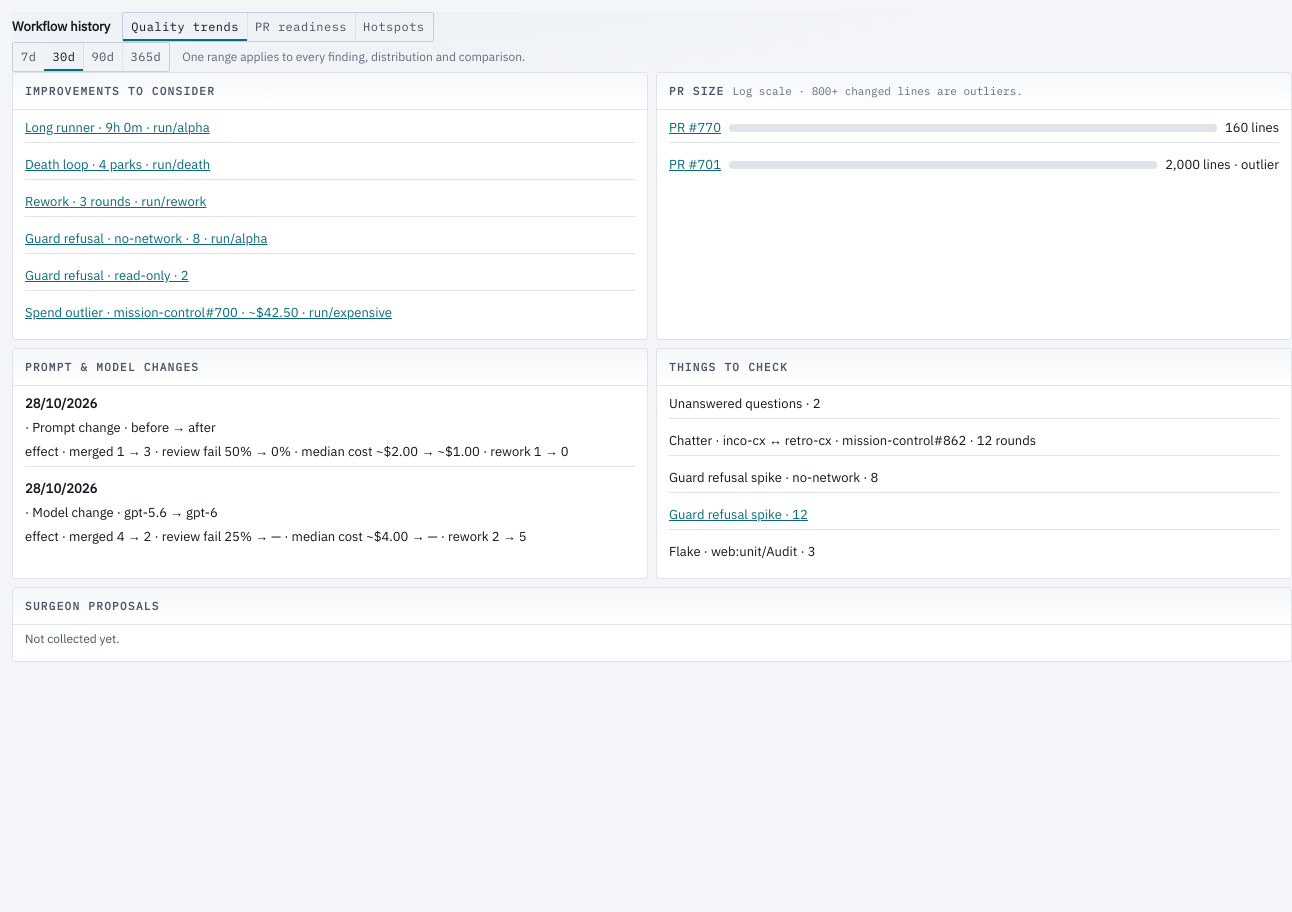
Test: Hotspots tab says so when no repo has a crew session
Expected: the heading "Workflow history" is shown, [12, 17, 110, 37]
What coordinates should you click on to do the following:
click the button "Hotspots"
I would click on:
 (394, 27)
Its box is [355, 13, 433, 41].
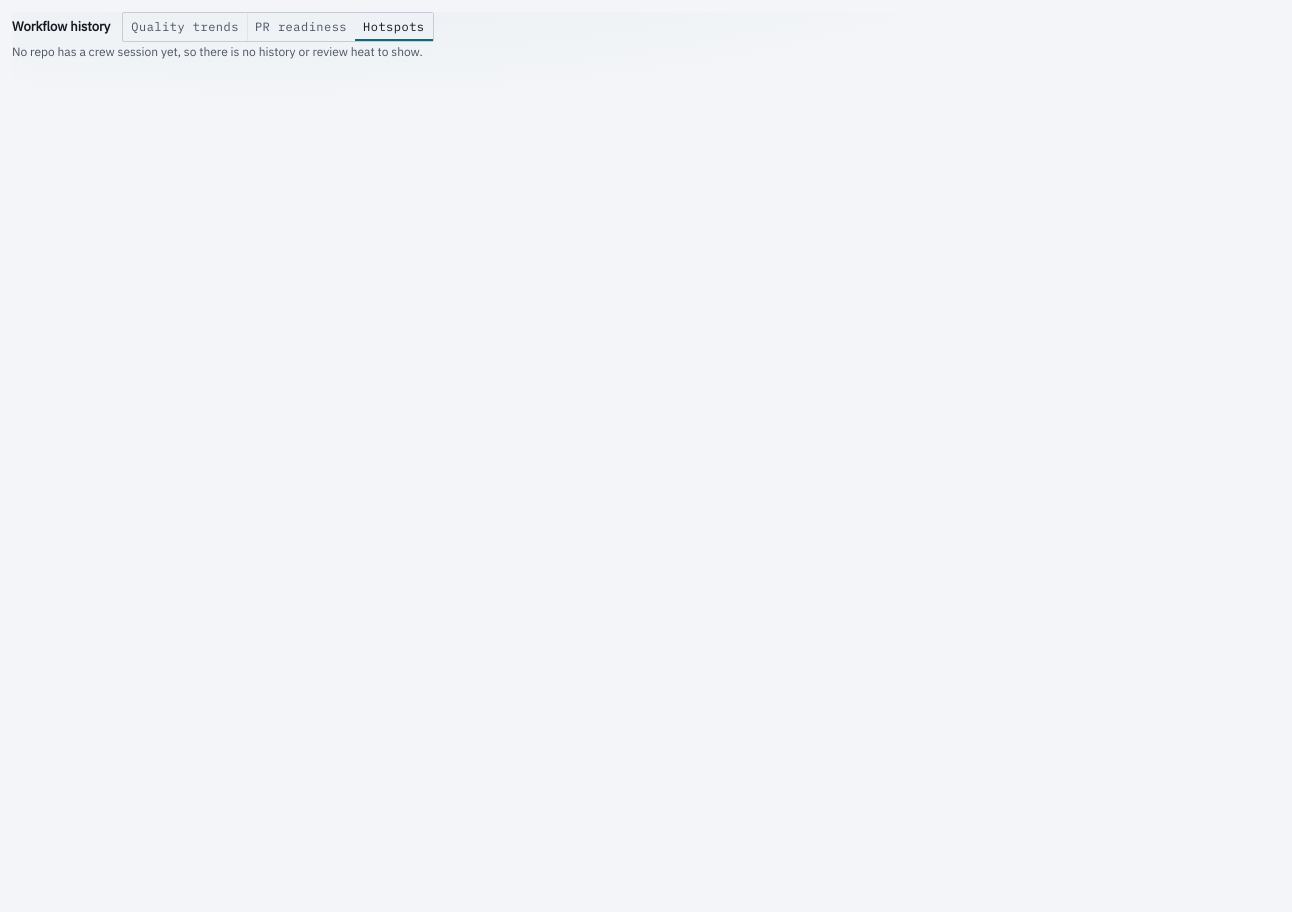
Result: the text "No repo has a crew session yet, so there is no history or review heat to show." is shown at [12, 44, 423, 59]
